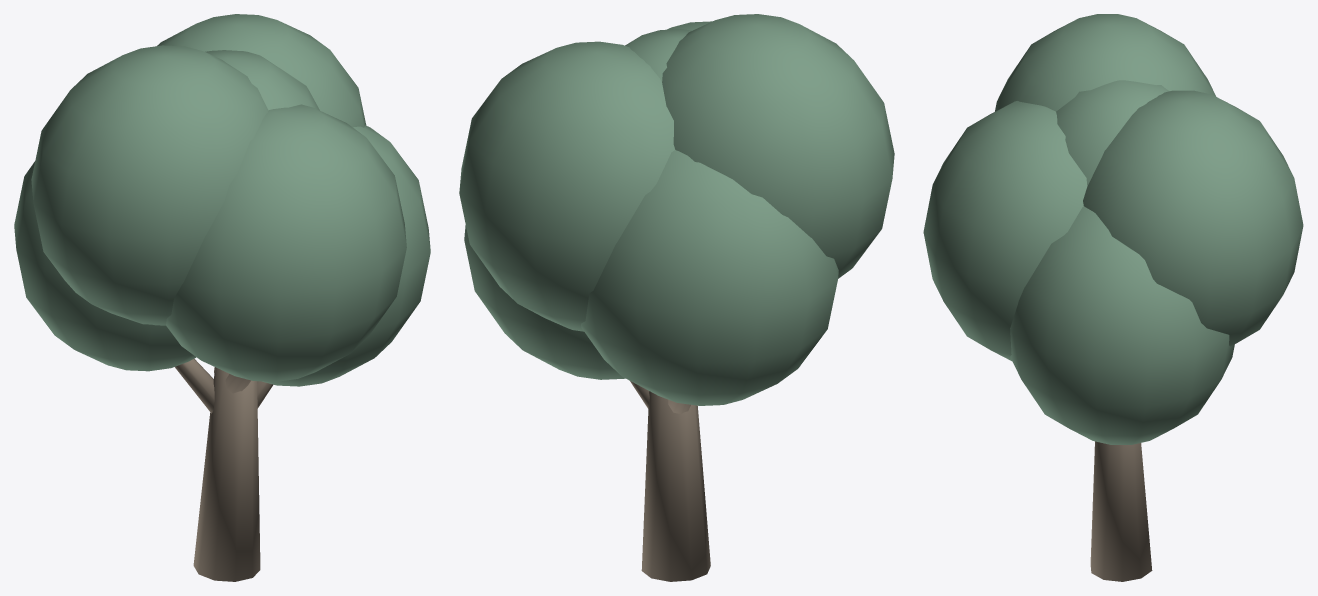
Rendered from Tree0_S90.fbx.
3 views of the same model, side by side, from view 1: azimuth 30°, elevation 25°; view 2: azimuth 150°, elevation 25°; view 3: azimuth 270°, elevation 25° (orthographic). The views are drawn at different scales.
Parts seen in each view (by area): view 1: Tree0_S90; view 2: Tree0_S90; view 3: Tree0_S90.
Boxes of the visible parts, x1=… form: Tree0_S90: x1=14, y1=14, x2=430, y2=581; Tree0_S90: x1=459, y1=14, x2=894, y2=581; Tree0_S90: x1=923, y1=14, x2=1303, y2=581.
Size of the model in its own units: 464 by 427 by 633.
